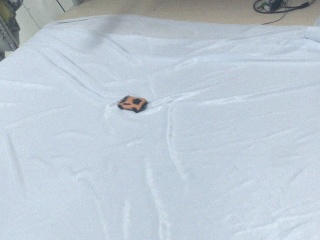toy_car: (117, 95, 148, 112)
